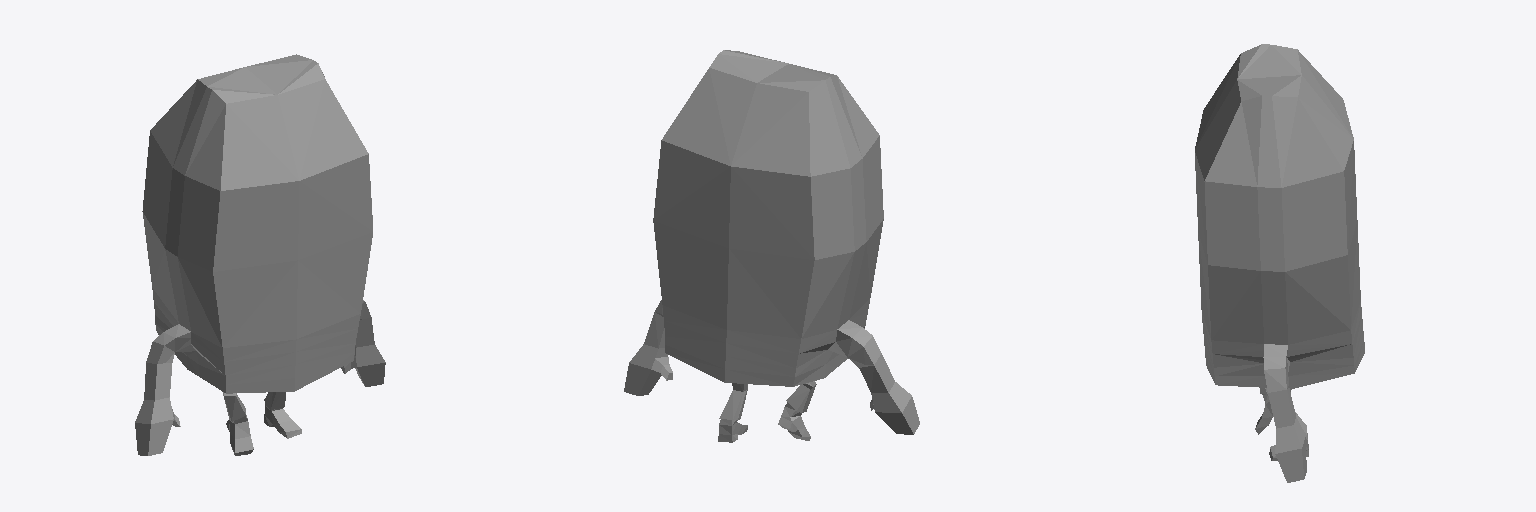
The model's file is Scientist_v0.1.obj.
3 renders of one model, left to right at view 1: azimuth 30°, elevation 25°; view 2: azimuth 150°, elevation 25°; view 3: azimuth 270°, elevation 25°, orthographic.
Parts seen in each view (by area): view 1: Cube; view 2: Cube; view 3: Cube.
Part boxes in pixels (x1,y1,x2,y2): Cube: (135,54,385,455); Cube: (624,50,919,442); Cube: (1195,44,1364,482).
Bounding box in the file's own units: 6.88 × 9.28 × 3.85.